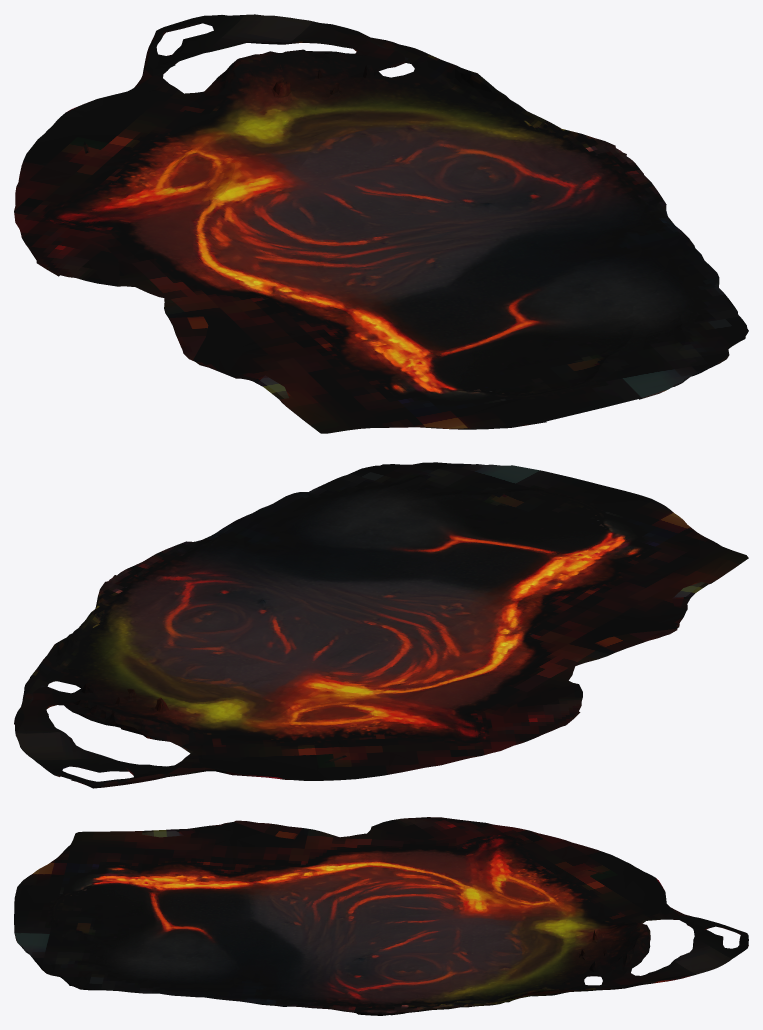
The model's file is SueloFuego.glb.
3 views of the same model, one above another, from view 1: azimuth 30°, elevation 25°; view 2: azimuth 150°, elevation 25°; view 3: azimuth 270°, elevation 25° (orthographic). The views are drawn at different scales.
Parts seen in each view (by area): view 1: world; view 2: world; view 3: world.
Part boxes in pixels (left/top/right/bottom): world: left=14, top=14, right=748, bottom=433; world: left=14, top=462, right=748, bottom=788; world: left=14, top=817, right=748, bottom=1015.
Size of the model in its own units: 0.6403 by 0.0286 by 1.
1 material, 1 textured.
